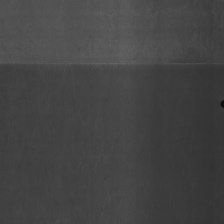punching_hole: (0, 59, 224, 73), (219, 96, 224, 109)
